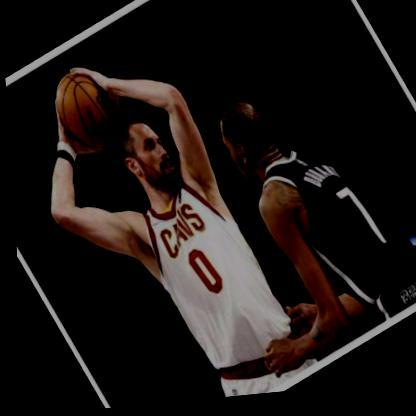basketball: (42, 60, 128, 163)
